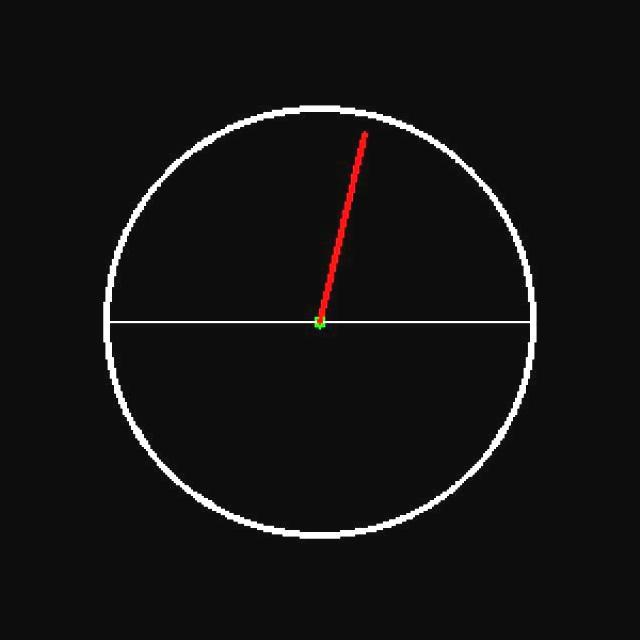Needle_Tip: (339, 116, 381, 163)
Needle_base: (283, 298, 356, 360)
